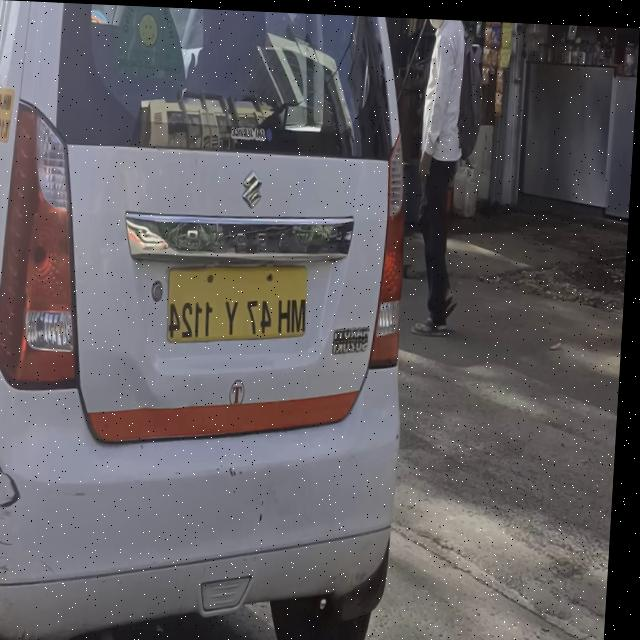plate: (169, 257, 314, 346)
